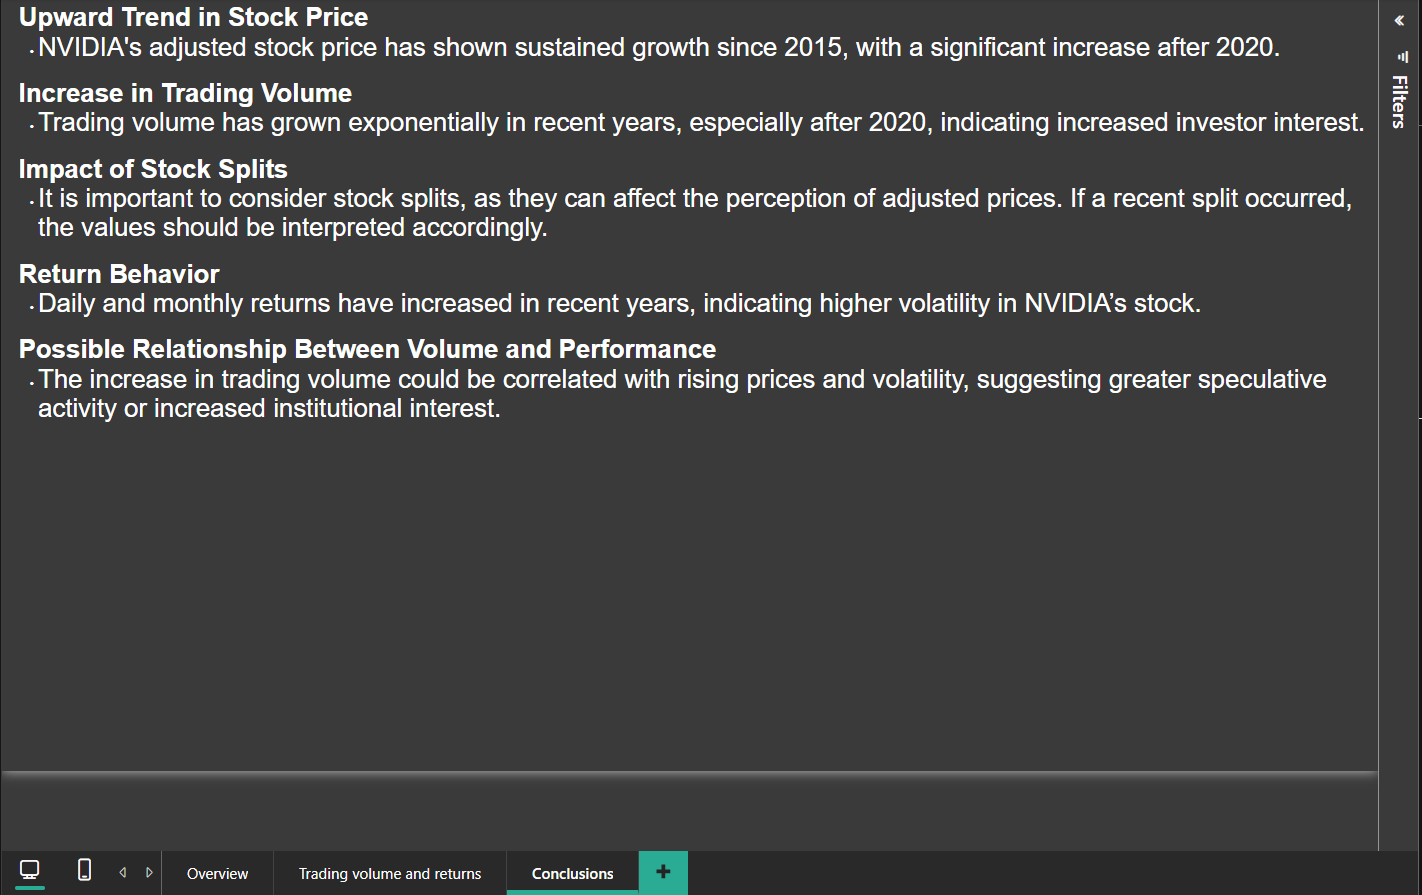

The dashboard page shown, as its layout file describes it:
{"tool":"powerbi","page":{"name":"Conclusions","canvas":[1280,720],"ordinal":2},"visuals":[{"type":"textbox","box":[10.5,0,1269.8,719.8],"z":0}]}

Visuals, with their boxes on the page's 1280x720 design canvas (x1, y1, x2, y2). These are canvas units, not pixel positions in the 1422x895 screenshot, which may show the page scaled, cropped or inside an application window:
textbox: detection(10, 0, 1280, 720)
